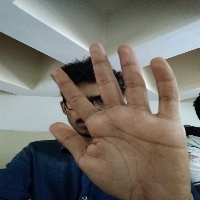ring: (114, 42, 149, 114)
